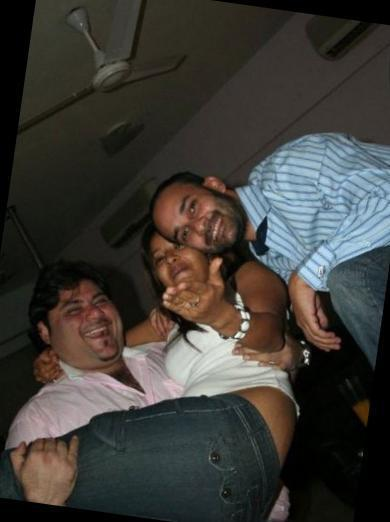Drunk: (55, 275, 124, 363), (154, 185, 239, 252), (148, 238, 207, 288)
